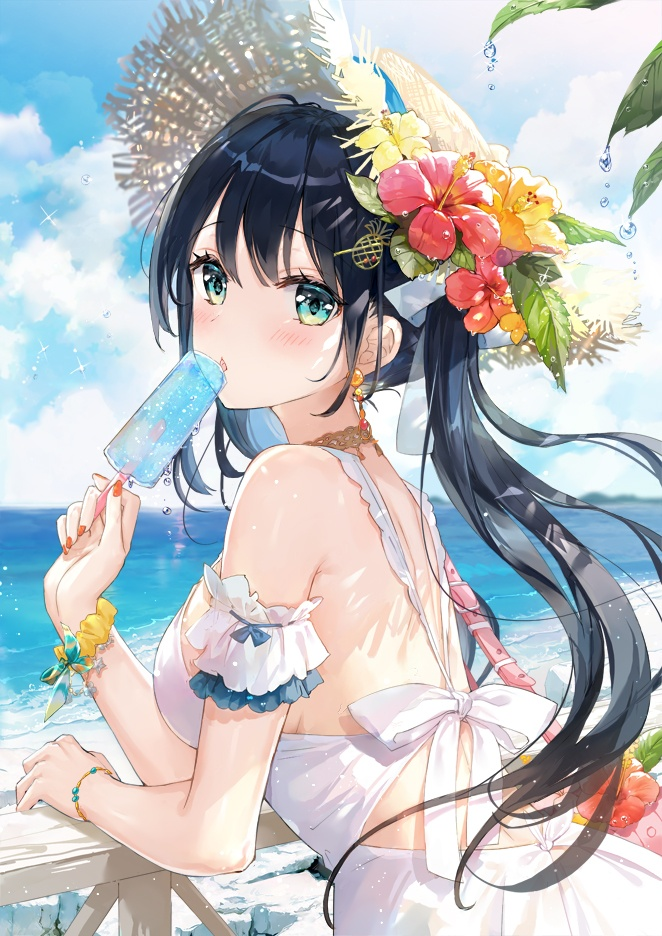纸片人正脸: (154, 84, 400, 424)
